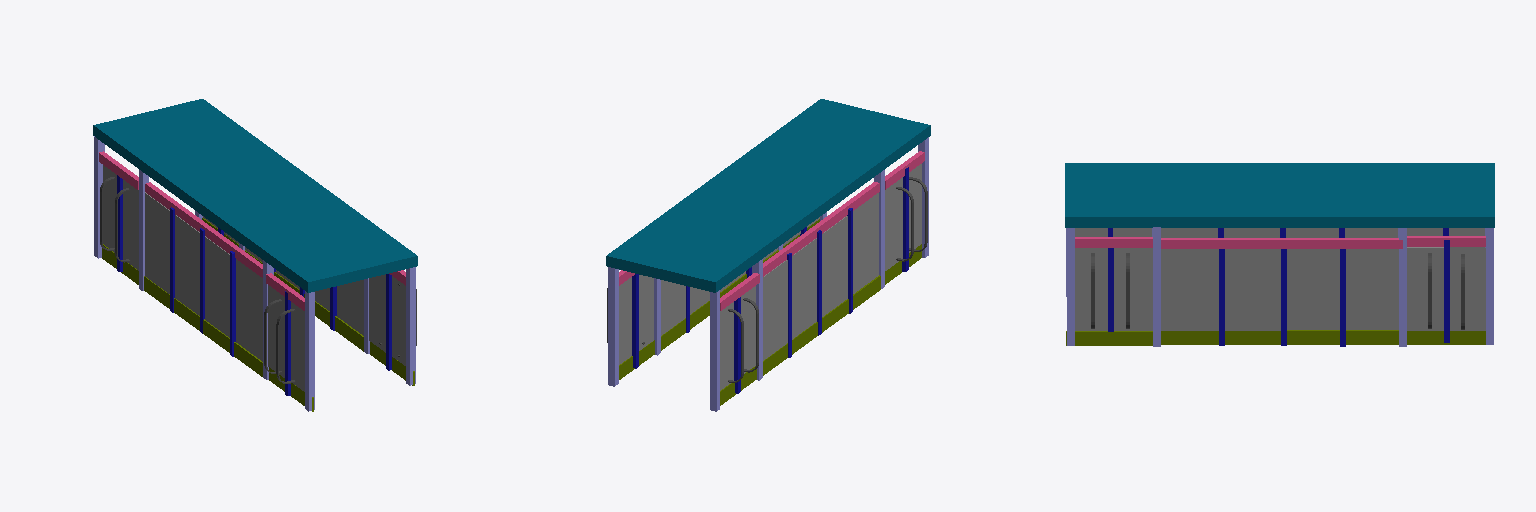
File: door.obj
3 renders of one model, left to right at view 1: azimuth 30°, elevation 25°; view 2: azimuth 150°, elevation 25°; view 3: azimuth 270°, elevation 25°, orthographic.
Visible parts, largest first — view 1: Box001, Box020, Box017, Box018, Box019, Box014, Box006, Box023, Box044, Box043, Box005, Box028 (+11 smaller); view 2: Box001, Box019, Box020, Box017, Box018, Box014, Box006, Box021, Box025, Box002, Box040, Box024 (+12 smaller); view 3: Box001, Box043, Box042, Box041, Box040, Box037, Box046, Box044, Box047, Box029, Box045, Box038 (+15 smaller).
Boxes of the visible parts, box(x1,y1,x2,y2) form: Box001: box(93, 99, 417, 292); Box020: box(236, 259, 262, 361); Box017: box(145, 192, 169, 293); Box018: box(175, 215, 199, 315); Box019: box(205, 236, 229, 337); Box014: box(144, 276, 262, 376); Box006: box(145, 182, 262, 277); Box023: box(123, 180, 138, 270); Box044: box(369, 274, 385, 352); Box043: box(337, 280, 363, 335); Box005: box(305, 291, 314, 411); Box028: box(406, 267, 415, 385); Box001: box(606, 99, 930, 292); Box019: box(822, 216, 847, 316); Box020: box(853, 193, 878, 293); Box017: box(763, 260, 787, 360); Box018: box(792, 238, 816, 339); Box014: box(763, 275, 880, 375); Box006: box(763, 182, 879, 276); Box021: box(885, 177, 902, 270); Box025: box(608, 267, 618, 386); Box002: box(710, 290, 719, 411); Box040: box(661, 280, 685, 335); Box024: box(720, 302, 733, 390); Box001: box(1065, 163, 1494, 227); Box043: box(1161, 249, 1218, 330); Box042: box(1225, 249, 1280, 330); Box041: box(1287, 249, 1339, 329); Box040: box(1346, 249, 1398, 329); Box037: box(1161, 330, 1398, 344); Box046: box(1407, 247, 1443, 330); Box044: box(1116, 248, 1152, 330); Box047: box(1450, 248, 1485, 330); Box029: box(1161, 238, 1402, 248); Box045: box(1075, 248, 1115, 330); Box038: box(1066, 331, 1152, 345).
Bounding box in the file's own units: 404 × 369 × 1095.